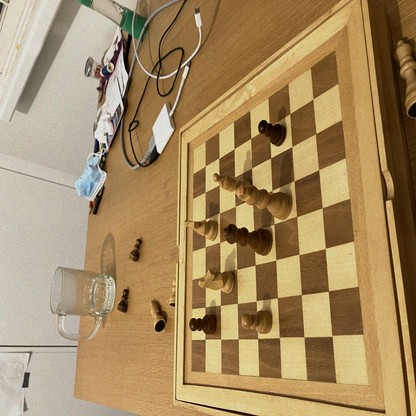bishop_white: (213, 173, 251, 192)
king_white: (237, 185, 290, 217)
knight_white: (198, 271, 236, 293), (185, 221, 218, 239)
pawn_black: (259, 119, 287, 145), (190, 316, 217, 333), (129, 237, 142, 260), (116, 289, 128, 312)
pawn_white: (241, 311, 273, 334)
queen_black: (223, 224, 273, 255)
queen_white: (395, 38, 416, 116), (150, 300, 167, 332)
